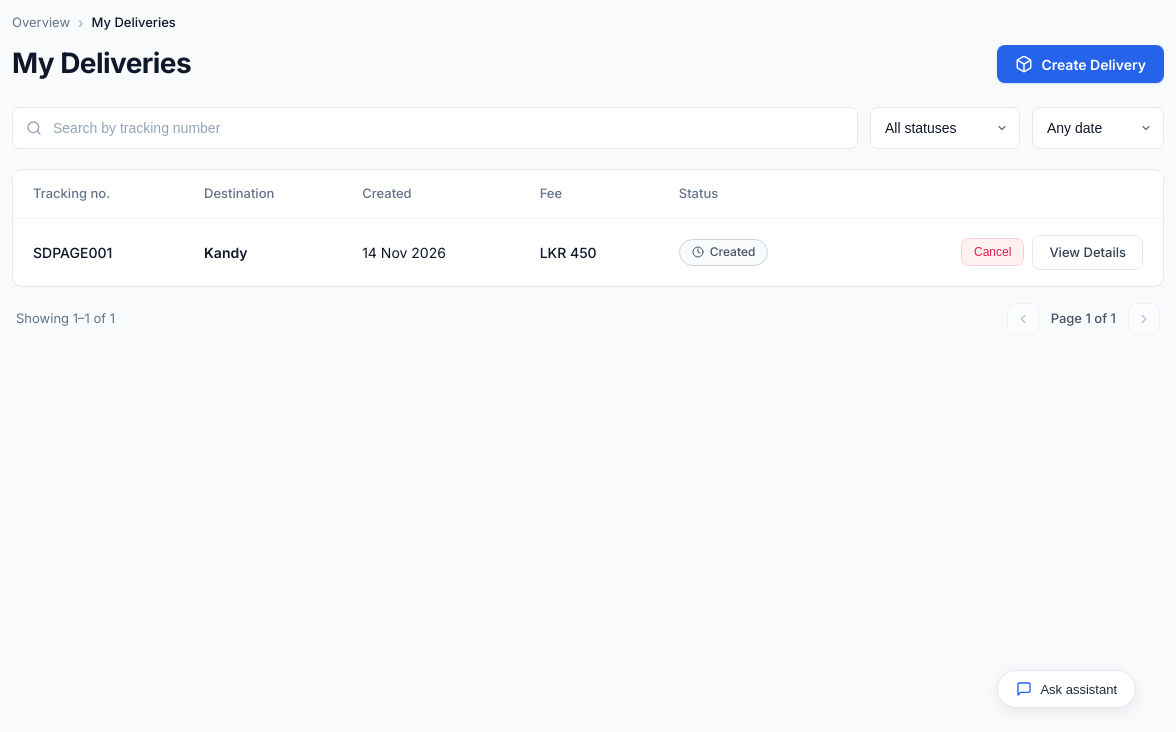
Scenario: DeliveryHistoryPage › asks the server for the chosen status and page
This screenshot has width=1176, height=732.
Expected: the text "SDPAGE001" is shown, [33,244,112,261]
Select "Delivered" in the dropdown named "Filter by status" at (945, 128), box [870,107,1020,149]
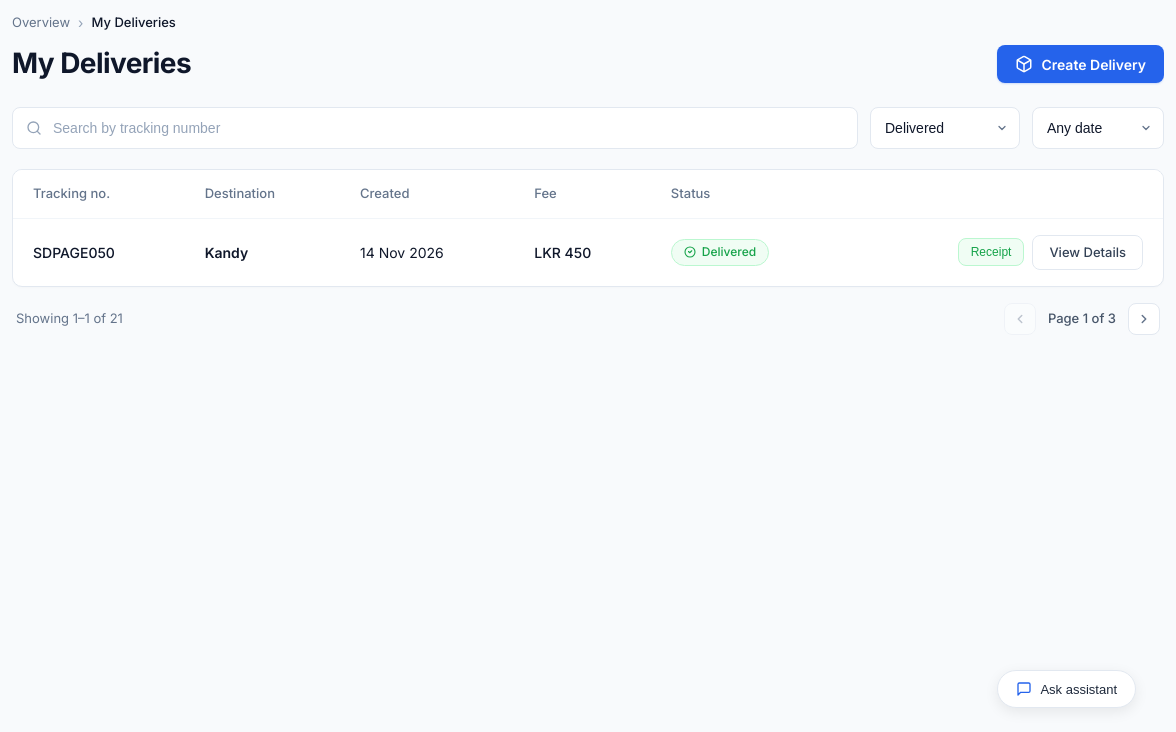
Now the text "SDPAGE050" is shown, box [33,244,115,261]
Now the text "Page 1 of 3" is shown, box [1044,309,1120,329]
Now the text "Showing 1–1 of 21" is shown, box [16,309,123,329]
Click the button named "Next page" at (1144, 319), box [1128,303,1160,335]
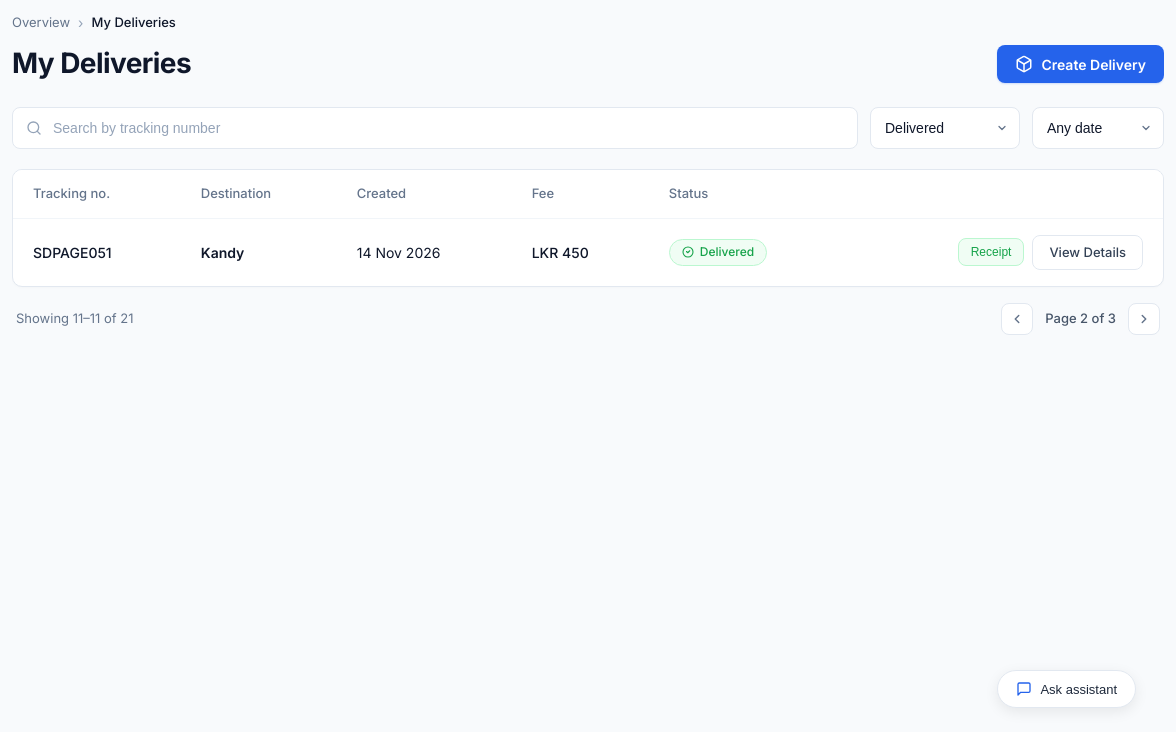
Now the text "SDPAGE051" is shown, box [33,244,112,261]
